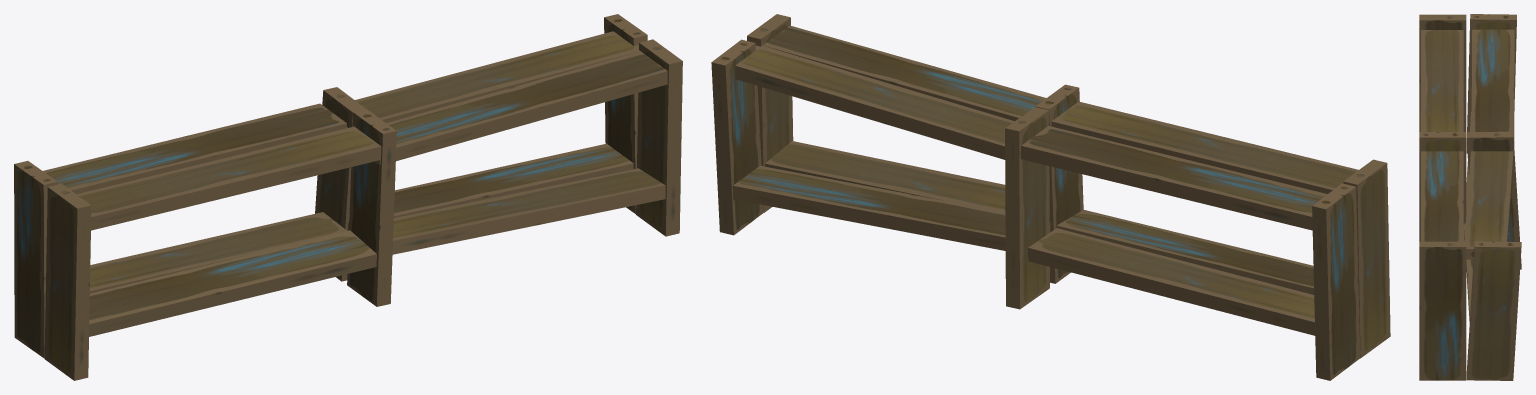
Rendered from P_Shelf_A.FBX.
3 renders of one model, left to right at view 1: azimuth 30°, elevation 25°; view 2: azimuth 150°, elevation 25°; view 3: azimuth 270°, elevation 25°, orthographic. The views are drawn at different scales.
Visible parts, largest first — view 1: P_Shelf_A; view 2: P_Shelf_A; view 3: P_Shelf_A.
Boxes of the visible parts, x1,y1,x2,y2 form: P_Shelf_A: [14, 14, 682, 380]; P_Shelf_A: [711, 14, 1390, 380]; P_Shelf_A: [1419, 14, 1521, 380].
Bounding box in the file's own units: 282 × 76.27 × 52.03.
1 material, 1 textured.
